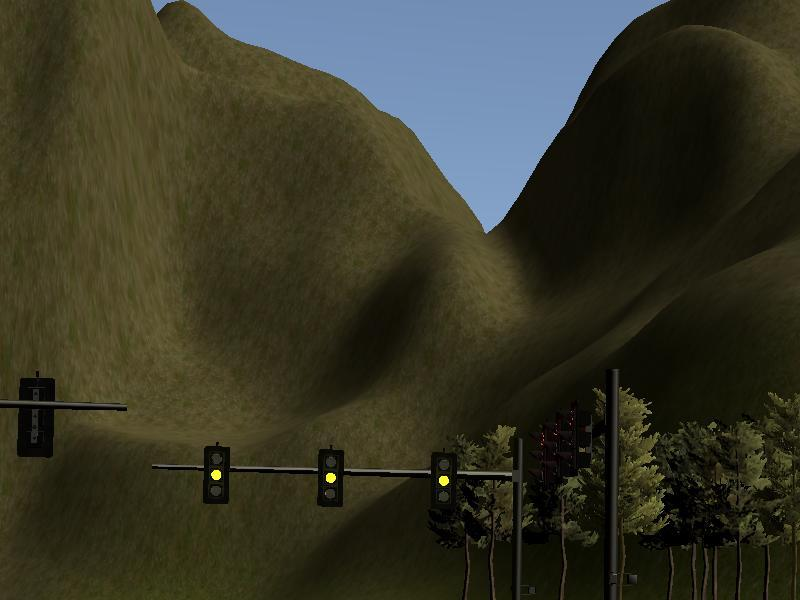Yellow: (202, 445, 229, 504), (317, 450, 343, 507), (430, 453, 456, 509)
